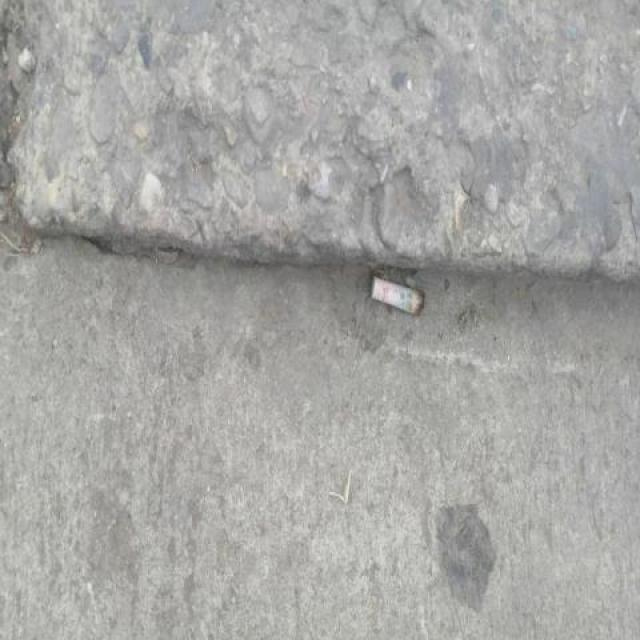non-organic waste: (361, 272, 428, 320)
